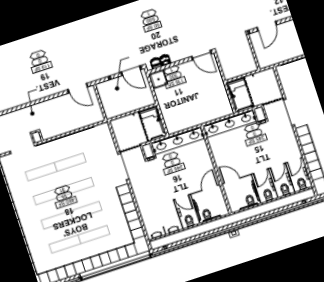door: (190, 50, 220, 80), (66, 84, 97, 113), (119, 67, 149, 96), (256, 22, 285, 51), (217, 159, 242, 186), (194, 167, 219, 192), (251, 165, 273, 189), (268, 159, 289, 183), (285, 156, 306, 179), (173, 194, 194, 215)
wall: (145, 185, 324, 257), (28, 100, 160, 150), (135, 105, 256, 150), (120, 172, 156, 254), (0, 86, 72, 123), (226, 54, 305, 87), (140, 61, 172, 140), (209, 41, 241, 119), (288, 121, 320, 198), (87, 84, 111, 124), (269, 64, 289, 104), (244, 33, 263, 71), (105, 120, 123, 158), (76, 75, 110, 93), (39, 271, 84, 282)
